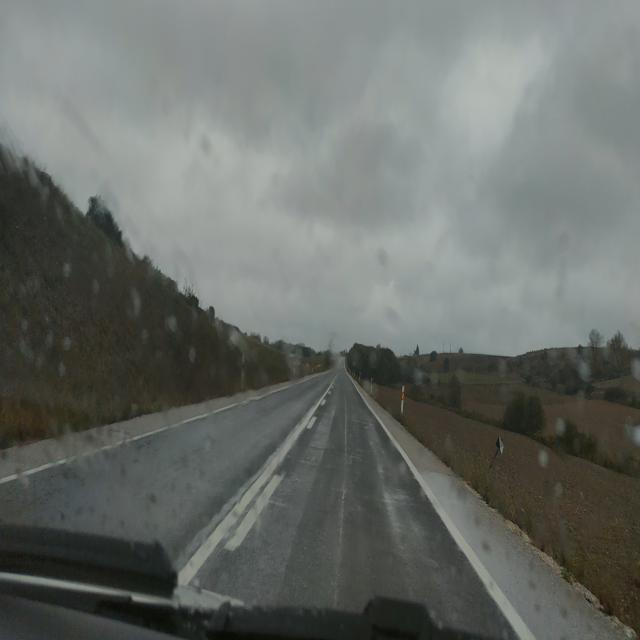Poth-hole: (330, 437, 349, 617)
